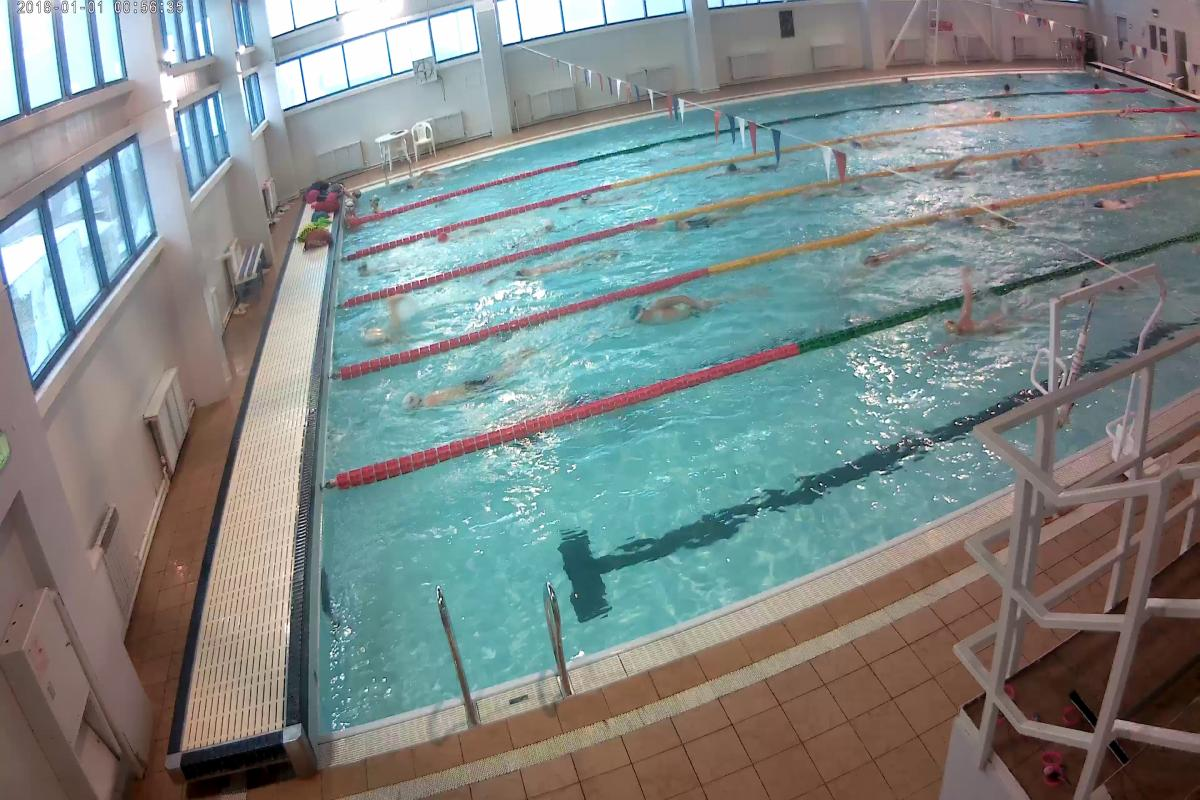swimmer: (397, 365, 525, 425), (619, 291, 719, 338), (838, 228, 930, 276), (508, 252, 593, 288), (360, 298, 412, 351), (938, 307, 1013, 339), (702, 159, 781, 189), (636, 212, 741, 234), (511, 212, 575, 247), (951, 214, 1045, 232), (1076, 195, 1142, 218), (930, 156, 981, 177), (1002, 154, 1046, 170), (977, 105, 1006, 120)
